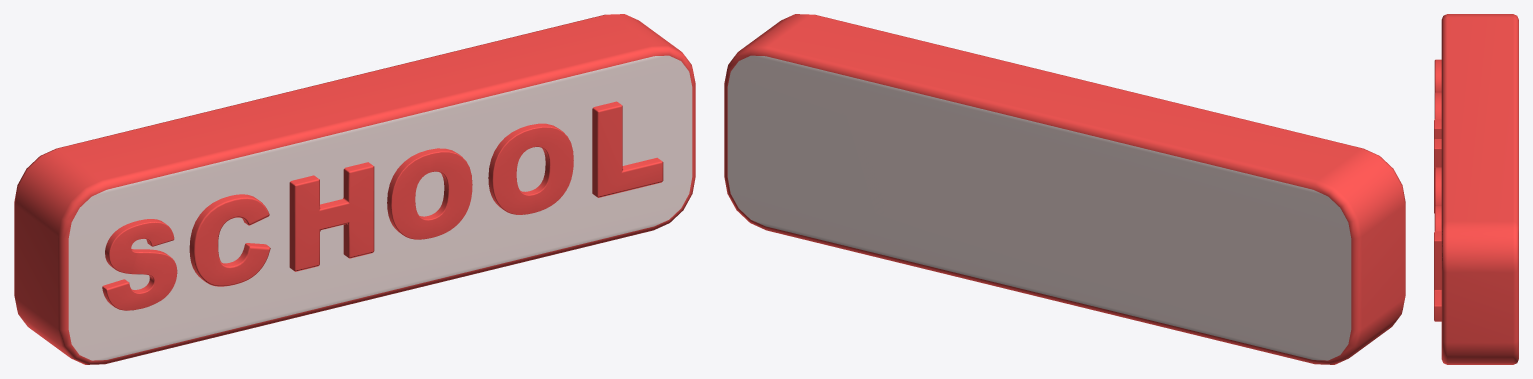
Rendered from Public_8_School_Sign_1.glb.
3 renders of one model, left to right at view 1: azimuth 30°, elevation 25°; view 2: azimuth 150°, elevation 25°; view 3: azimuth 270°, elevation 25°, orthographic. The views are drawn at different scales.
Visible parts, largest first — view 1: Public_8_School_Sign_1; view 2: Public_8_School_Sign_1; view 3: Public_8_School_Sign_1.
Boxes of the visible parts, <box> form: Public_8_School_Sign_1: <box>14,14,695,364</box>; Public_8_School_Sign_1: <box>724,14,1405,364</box>; Public_8_School_Sign_1: <box>1434,14,1518,364</box>.
Bounding box in the file's own units: 3.53 × 0.9765 × 0.5368.
Materials: 1 (1 with a texture image).
